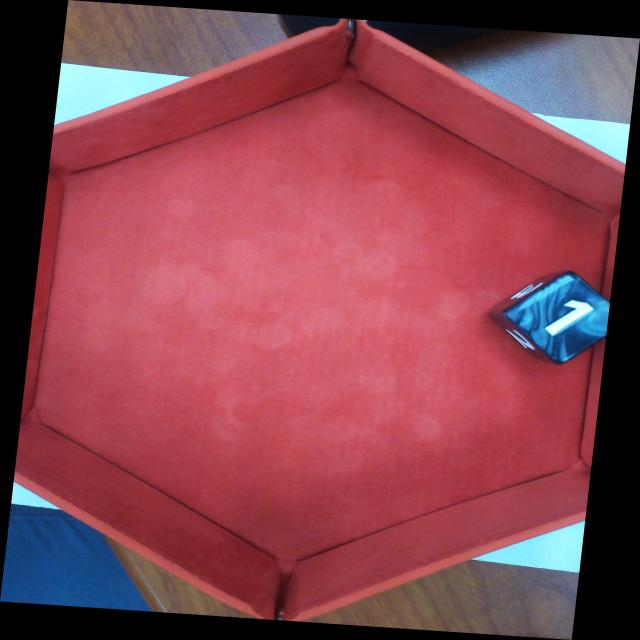dice: (510, 272, 609, 363)
